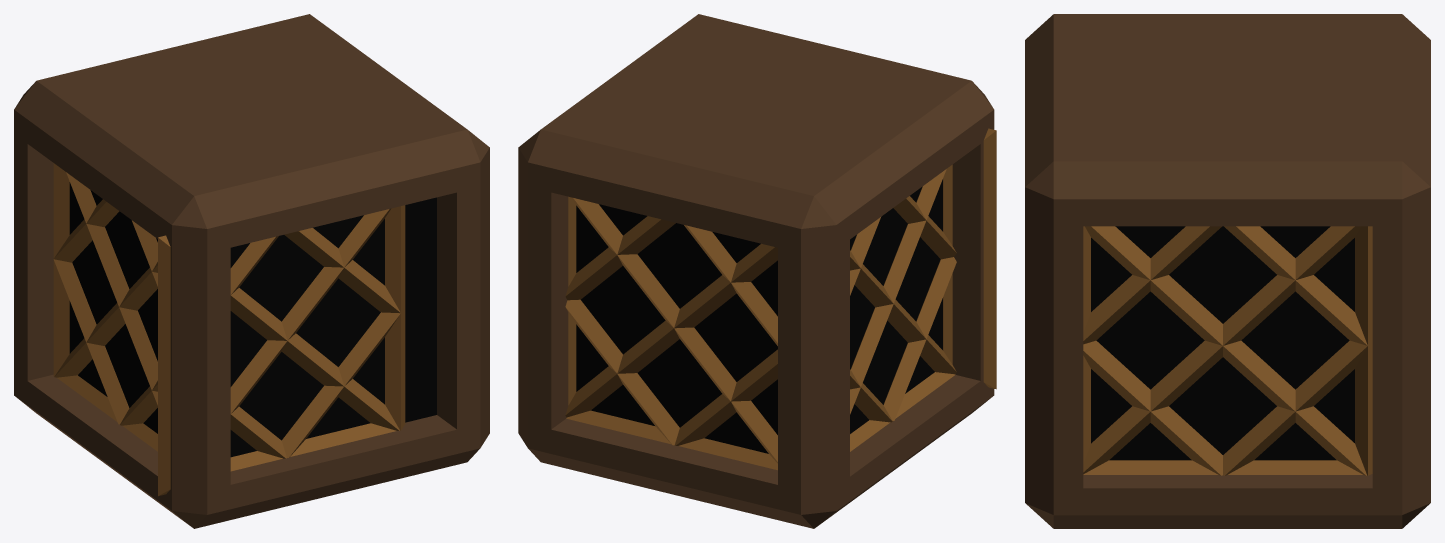
The model's file is Enceinte.fbx.
3 views of the same model, side by side, from view 1: azimuth 30°, elevation 25°; view 2: azimuth 150°, elevation 25°; view 3: azimuth 270°, elevation 25° (orthographic). The views are drawn at different scales.
Parts seen in each view (by area): view 1: Enceinte; view 2: Enceinte; view 3: Enceinte.
Boxes of the visible parts, box(x1,y1,x2,y2) form: Enceinte: box(14, 14, 489, 528); Enceinte: box(518, 14, 996, 528); Enceinte: box(1025, 14, 1430, 528).
Bounding box in the file's own units: 82.69 × 80.64 × 80.64.
